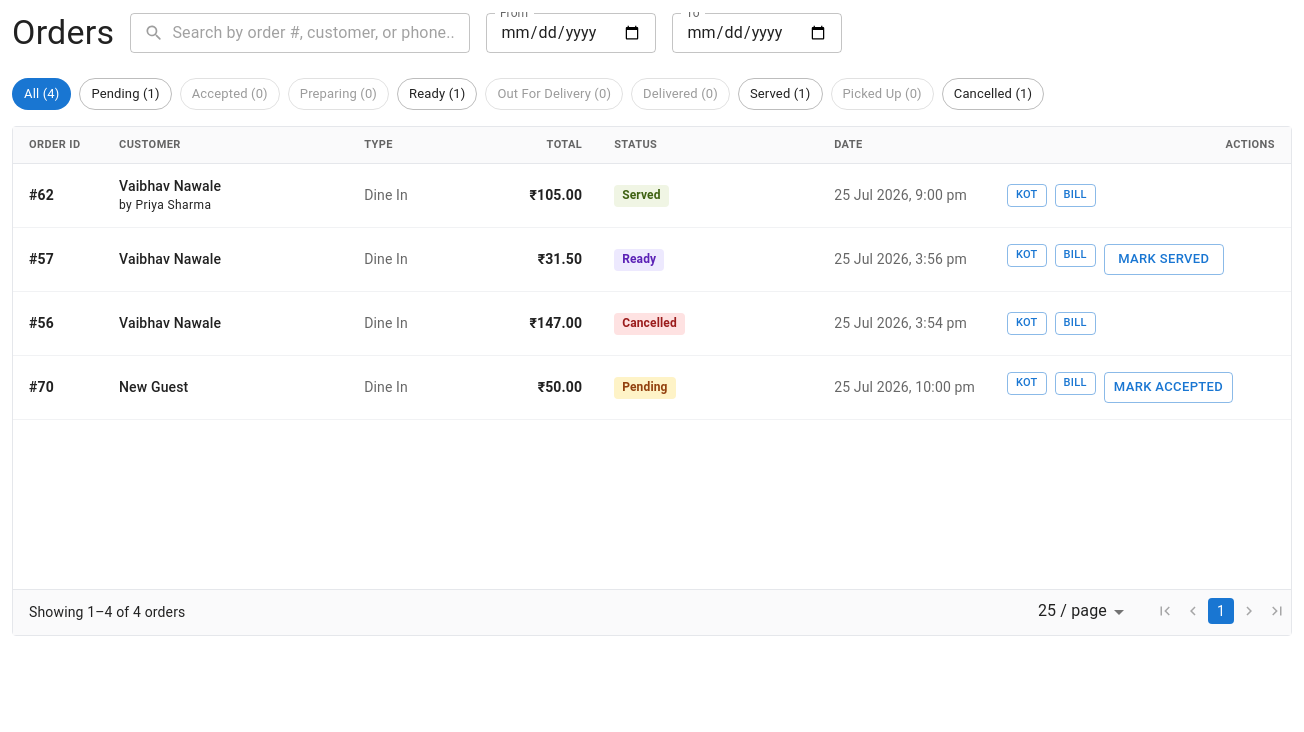
Test: Orders - search and status filter › shows a distinct message when the filter matches nothing
This screenshot has width=1304, height=732.
Expected: the text "#62" is shown, [13, 164, 103, 228]
Type "no-such-order" into the field with placeholder "Search by order #, customer, or phone..." at (321, 33), box [172, 13, 470, 53]
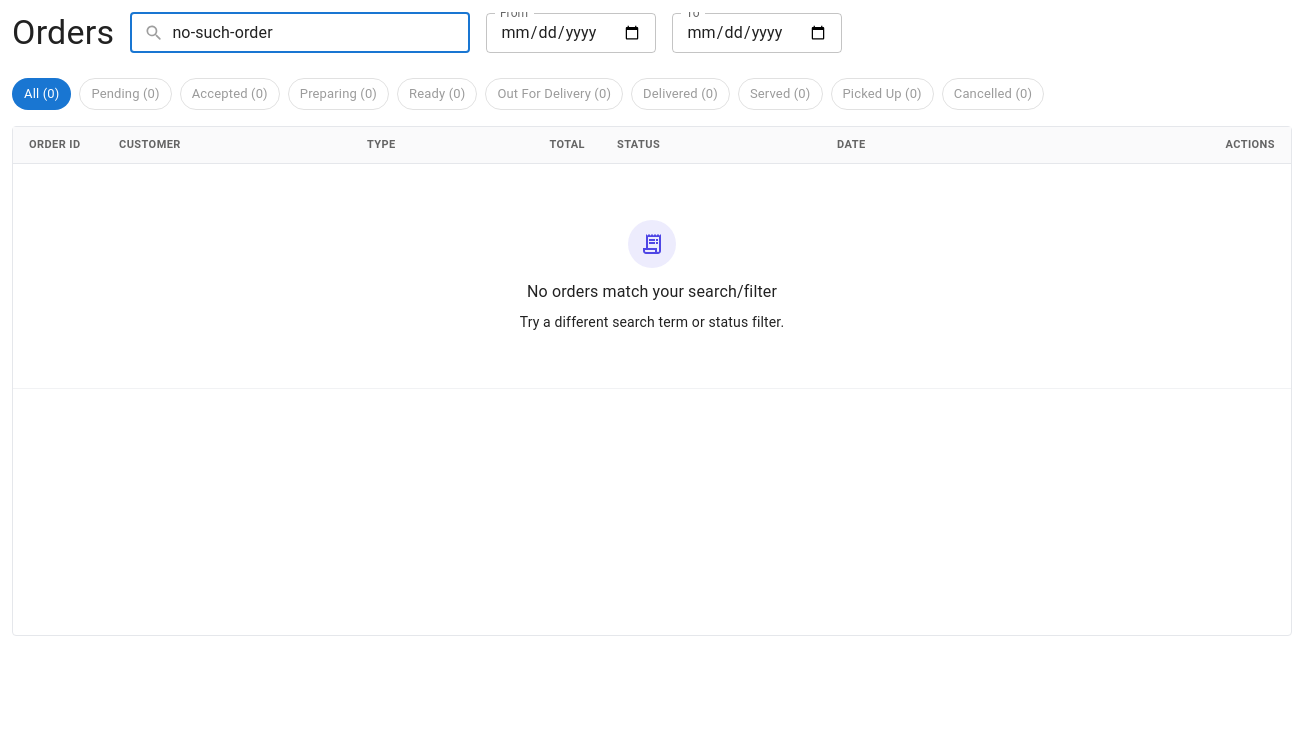
Now the text "No orders match your search/filter" is shown, box [527, 280, 777, 304]
